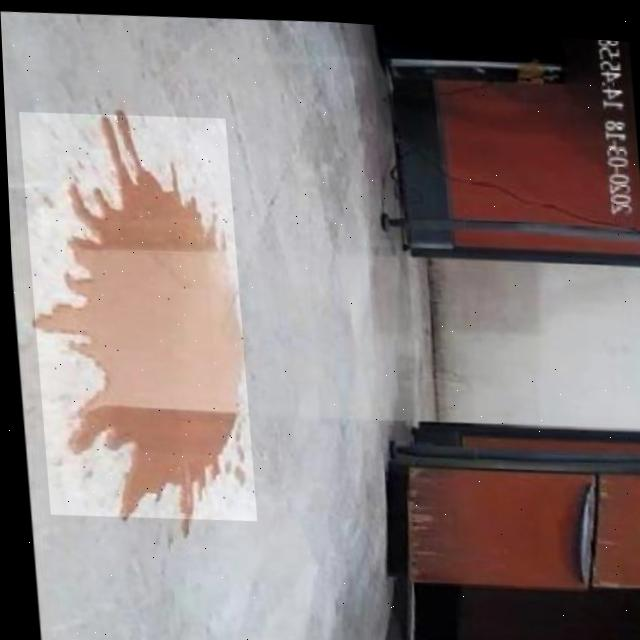spillage: (31, 113, 239, 515)
